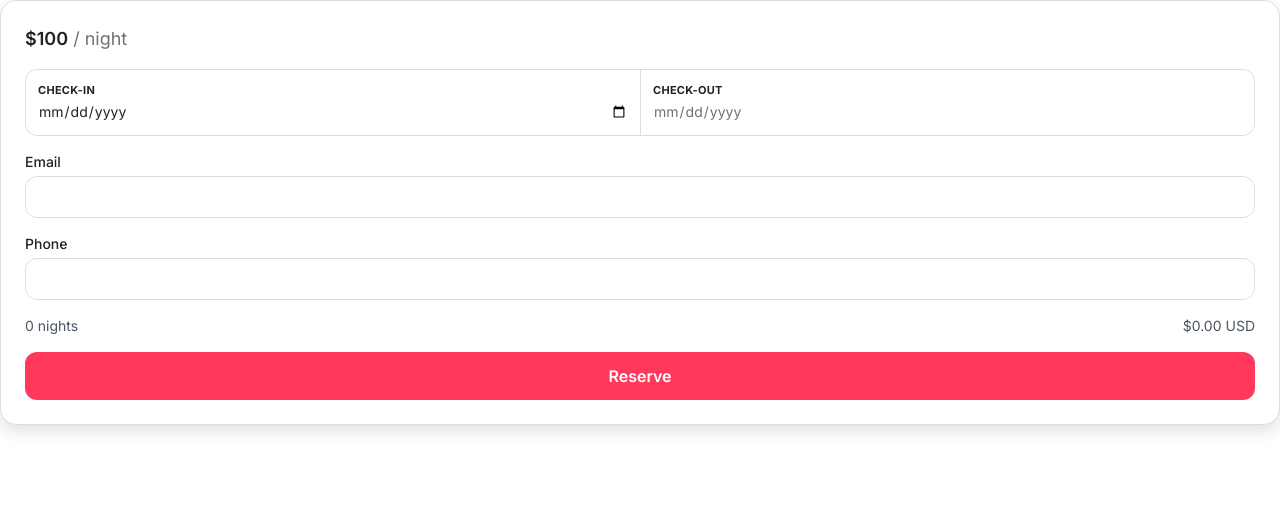
Test: BookingForm › surfaces a 409 conflict returned by the booking API
In the date field named "Check-in": [333, 112] box [38,100,628,122], type "2030-01-01"
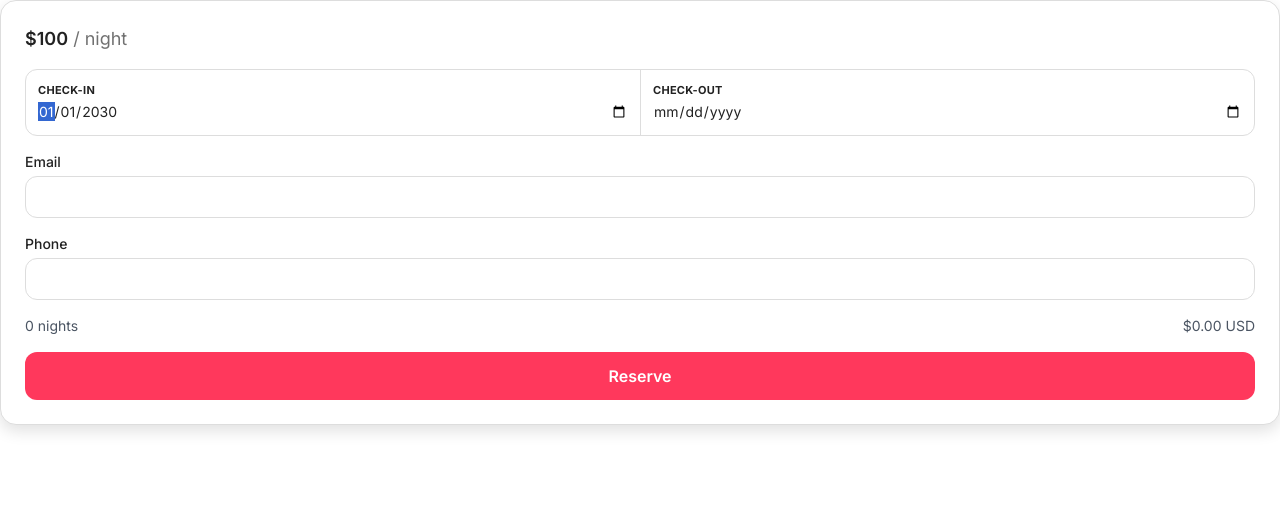
In the date field named "Check-out": [948, 112] box [653,100,1242,122], type "2030-01-03"
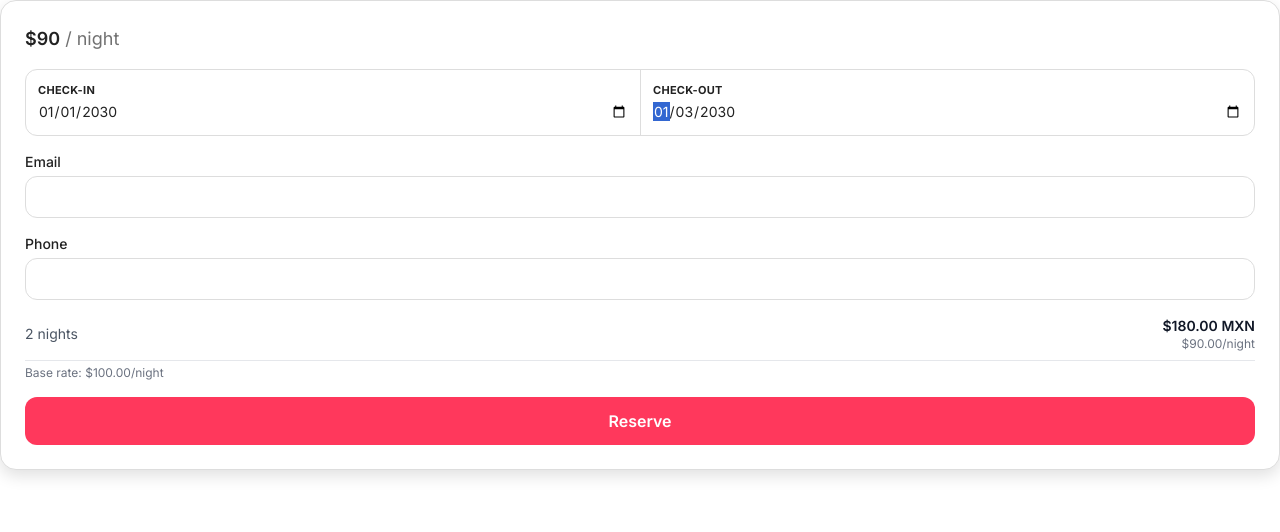
In the field named "Email": [640, 196] box [25,176,1255,218], type "guest@example.com"
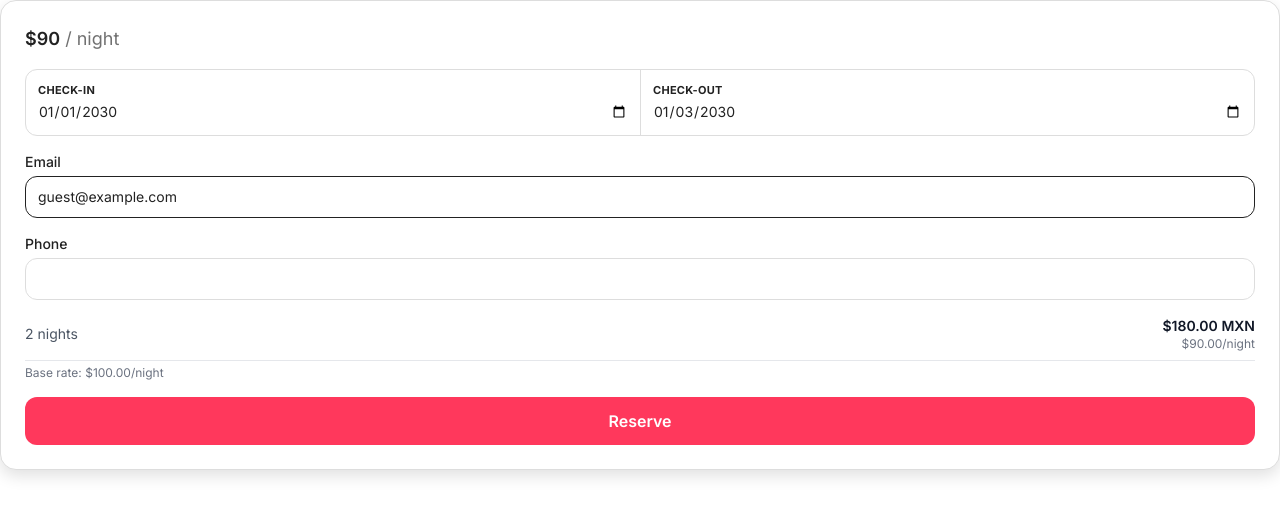
In the field named "Phone": [640, 278] box [25,258,1255,300], type "5215551234"
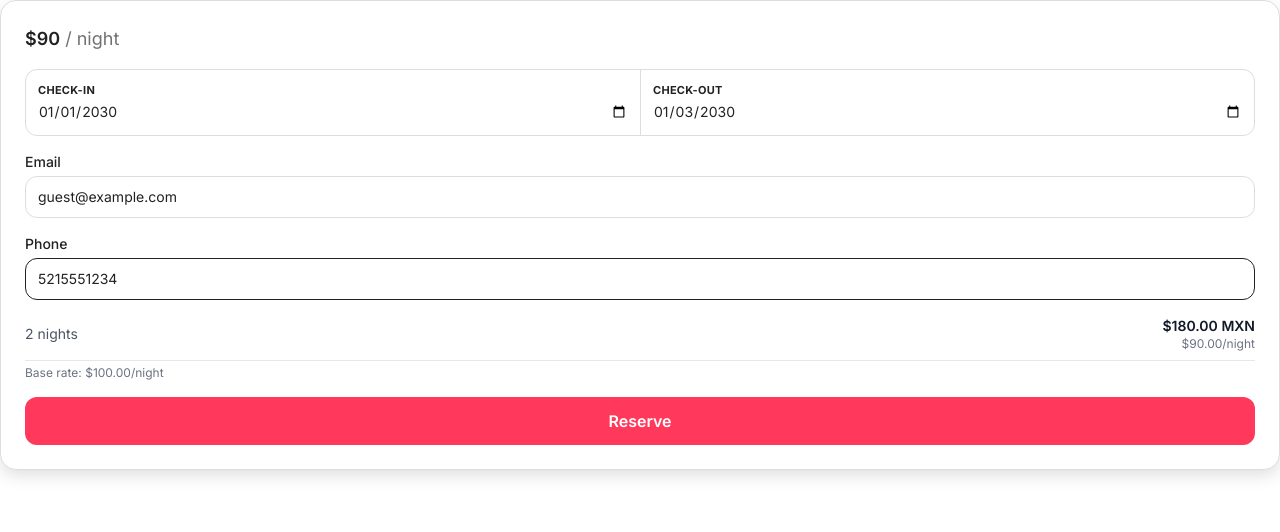
Click the button "Reserve": [640, 420] box [25,396,1255,444]
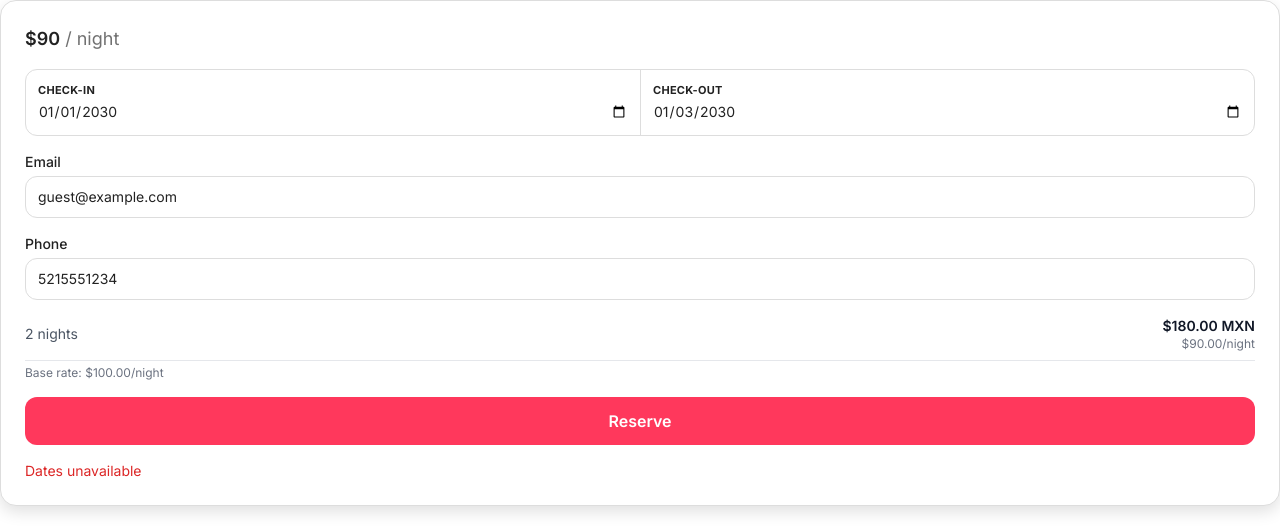
Result: the text "Dates unavailable" is shown at [25,462,142,478]
